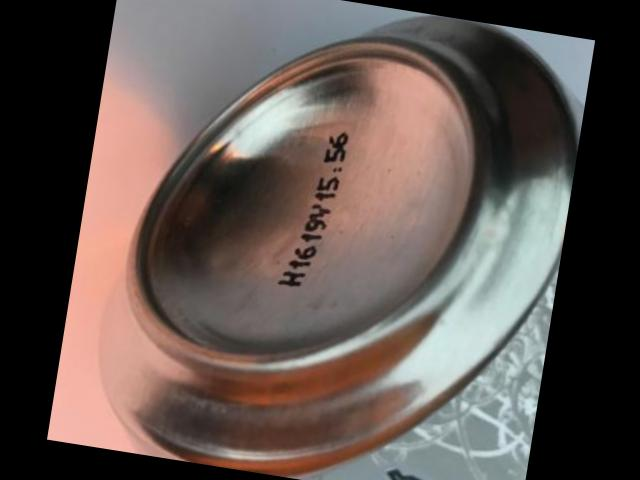metal: (97, 18, 583, 480)
